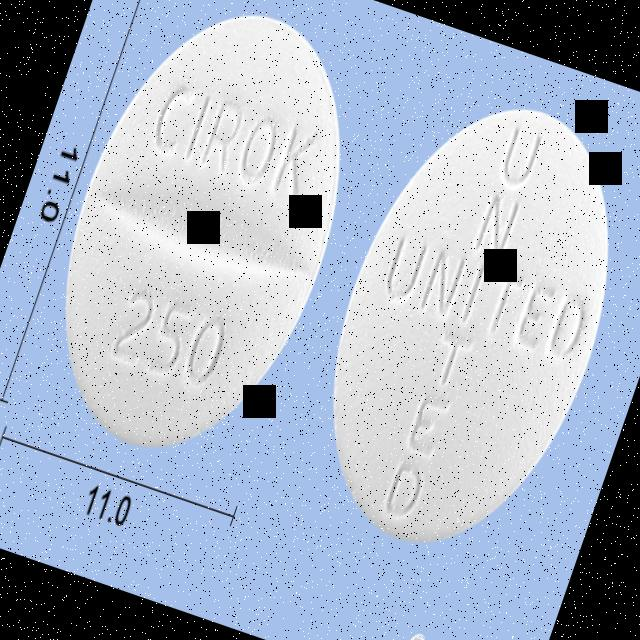Cirok -500mg: (276, 64, 640, 583), (9, 0, 394, 488)
